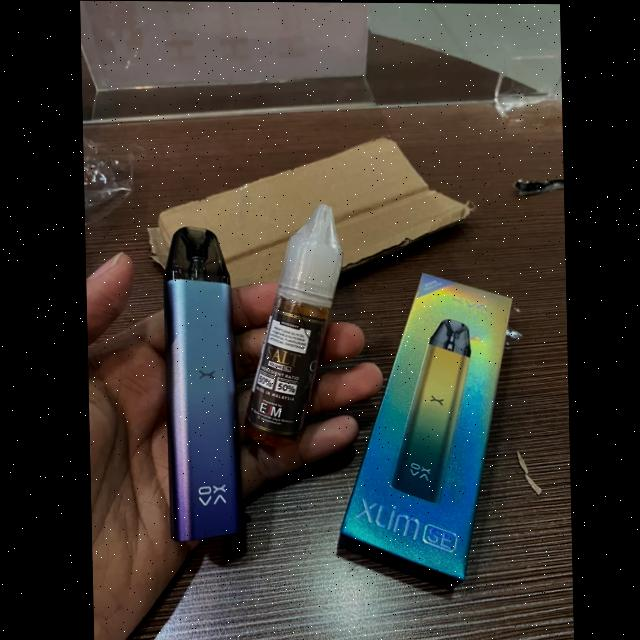vape: (158, 226, 245, 544), (386, 315, 474, 498)
